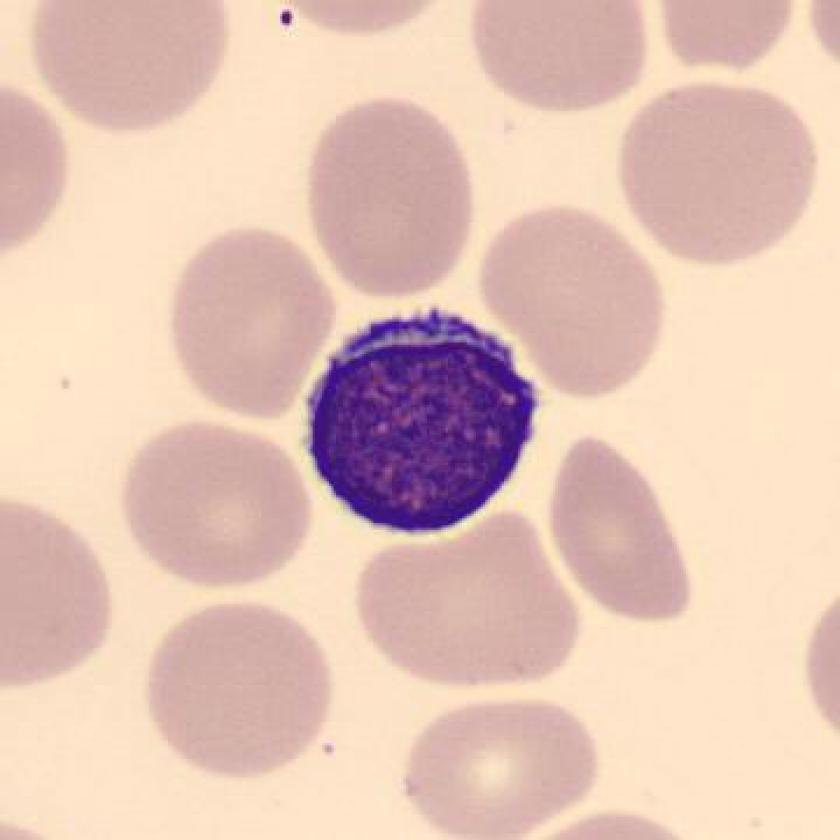lymphocyte: (279, 293, 561, 547)
